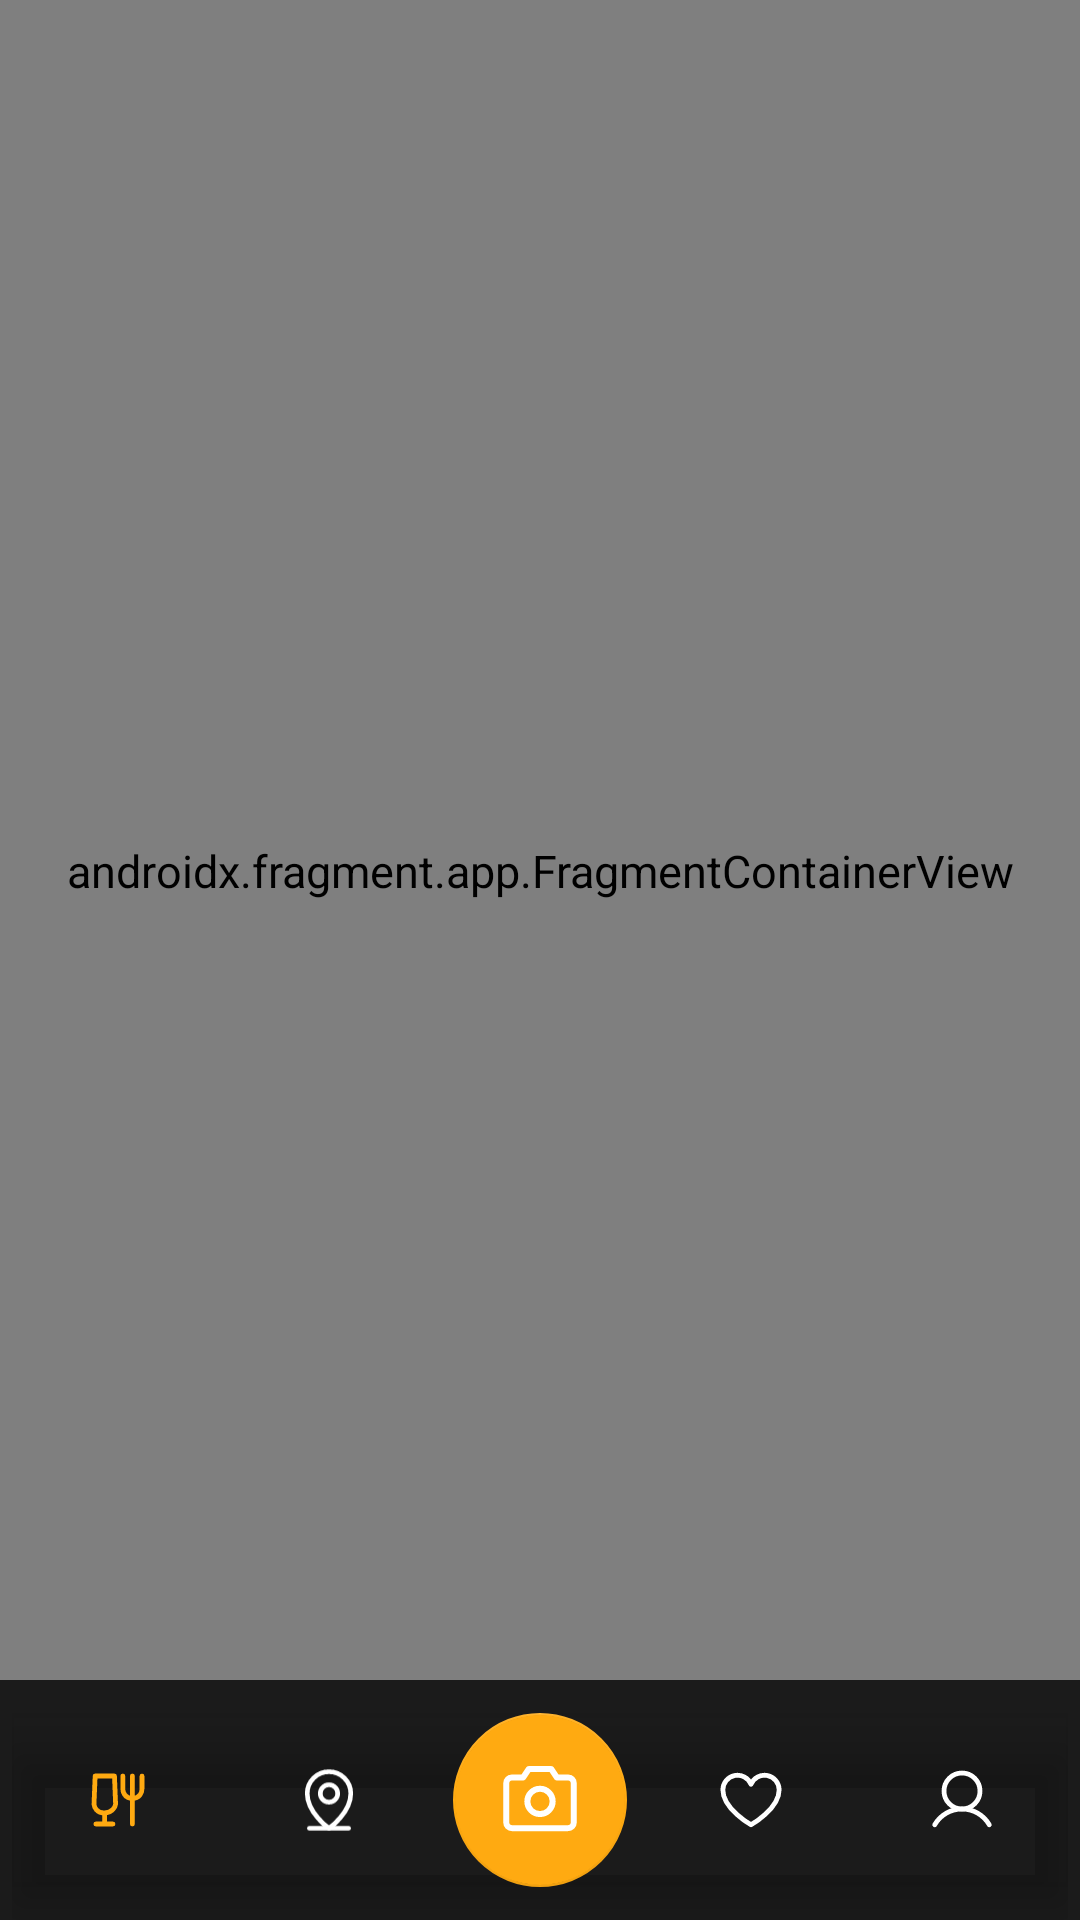

Locate icon controls on the screen. Image size 1080 × 1920, boxes as (left=x1, top=y1, right=x2, bottom=y2).
camera: (left=453, top=1746, right=627, bottom=1887)
